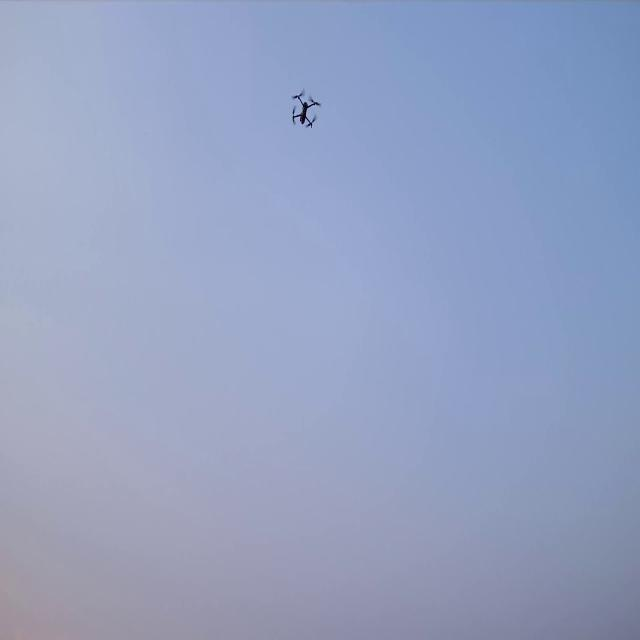UAV: (290, 89, 321, 130)
